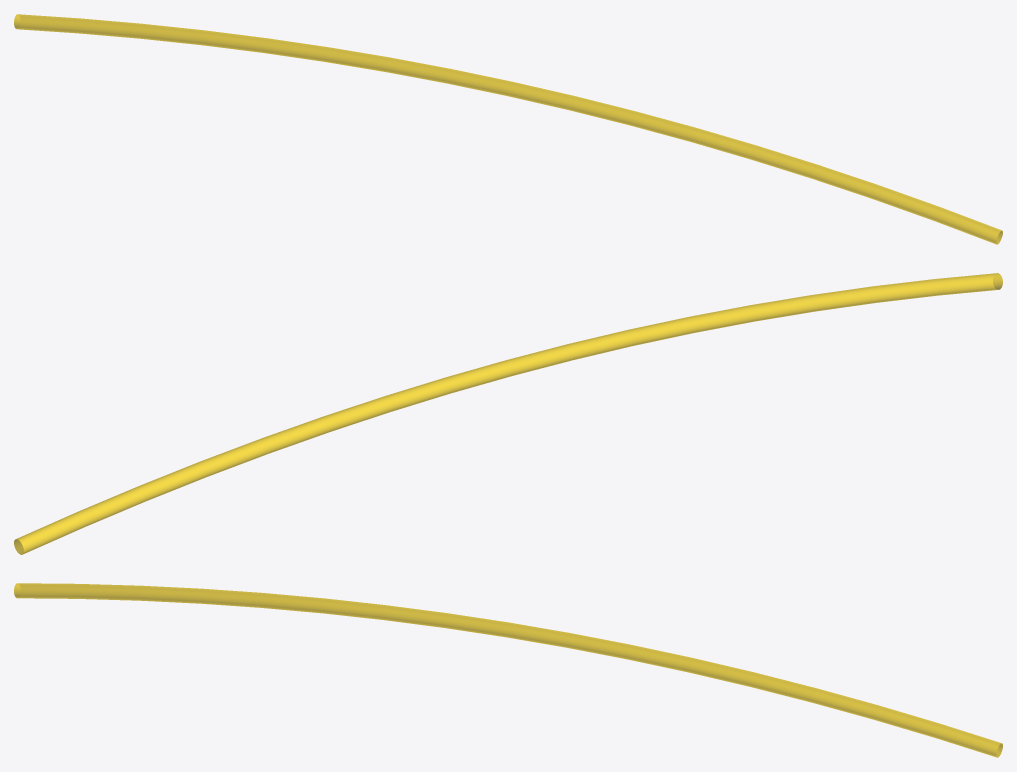
File: Event_84804159_track_9.fbx
3 renders of one model, top to bottom at view 1: azimuth 90°, elevation 25°; view 2: azimuth 150°, elevation 25°; view 3: azimuth 270°, elevation 25°, orthographic. The views are drawn at different scales.
Parts seen in each view (by area): view 1: Model; view 2: Model; view 3: Model.
Part boxes in pixels (bbox=[...]): Model: bbox=[14, 14, 1002, 244]; Model: bbox=[14, 273, 1002, 554]; Model: bbox=[14, 583, 1002, 757].
Bounding box in the file's own units: 1.21 × 0.2022 × 2.61.
